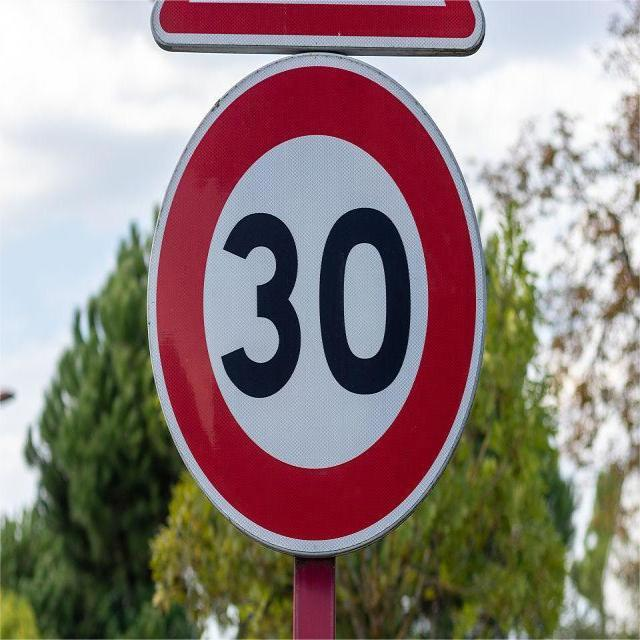speed limit 30: (144, 55, 487, 561)
